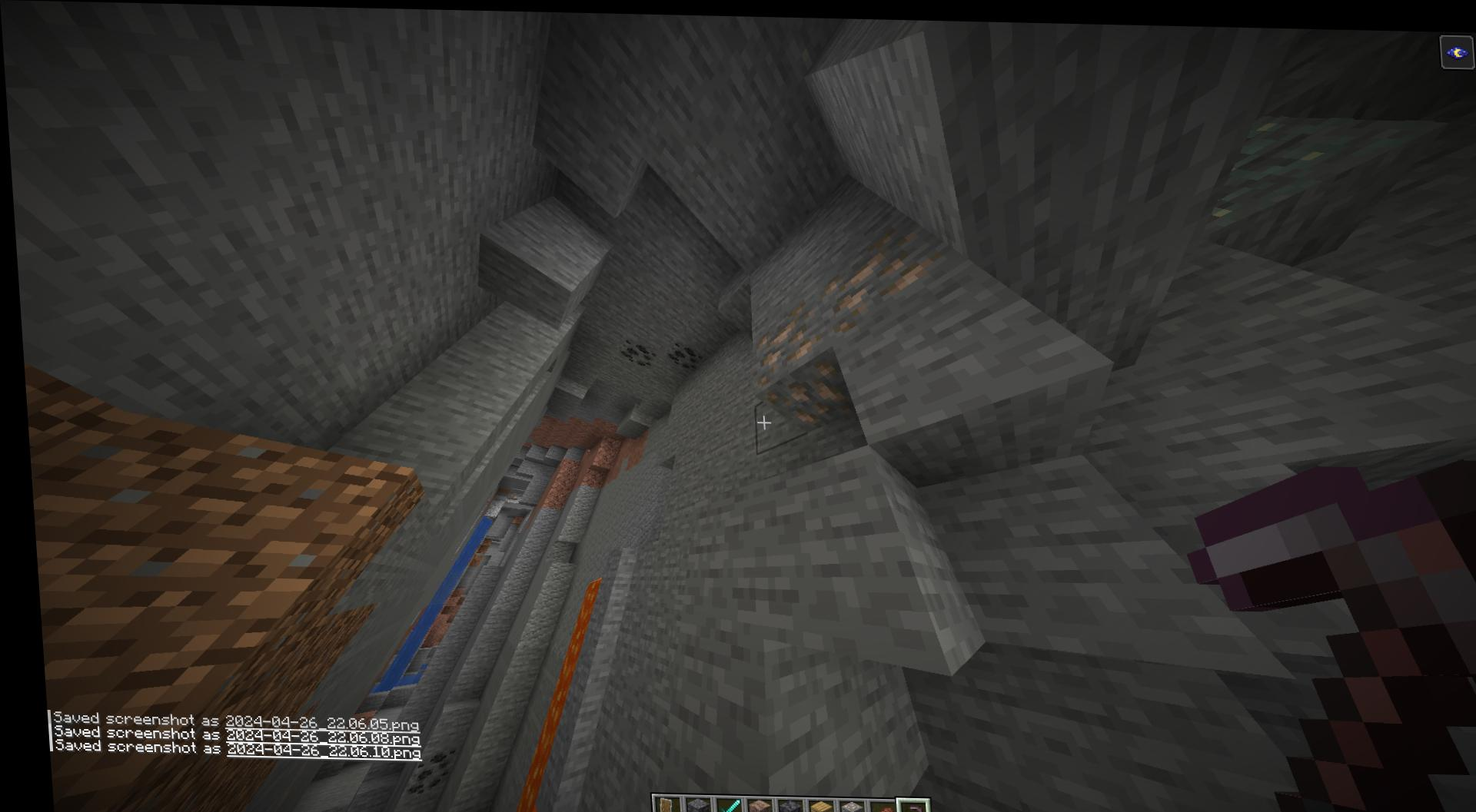iron ore: (749, 307, 847, 422), (822, 226, 943, 311)
